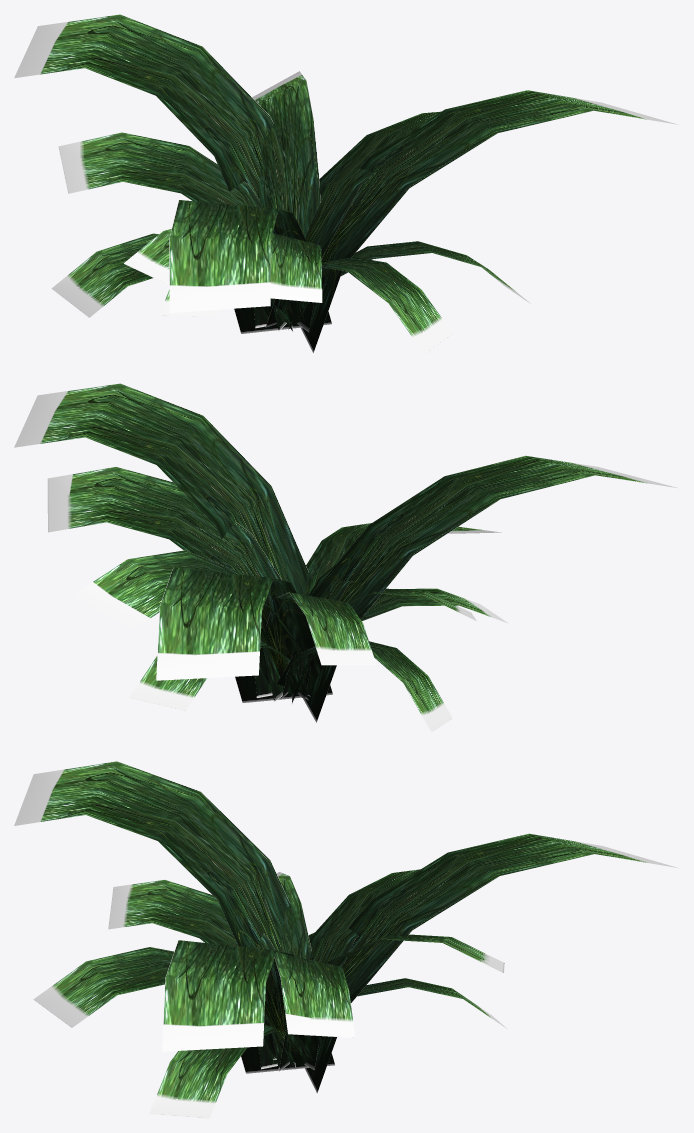
Rendered from plant.obj.
The picture shows the model from 3 angles, top to bottom: view 1: azimuth 30°, elevation 25°; view 2: azimuth 150°, elevation 25°; view 3: azimuth 270°, elevation 25°; orthographic projection.
Parts seen in each view (by area): view 1: plant; view 2: plant; view 3: plant.
Boxes of the visible parts, box(x1,y1,x2,y2) form: plant: box(14, 14, 678, 354); plant: box(14, 383, 678, 732); plant: box(14, 761, 677, 1118).
Bounding box in the file's own units: 229 × 81.45 × 232.
